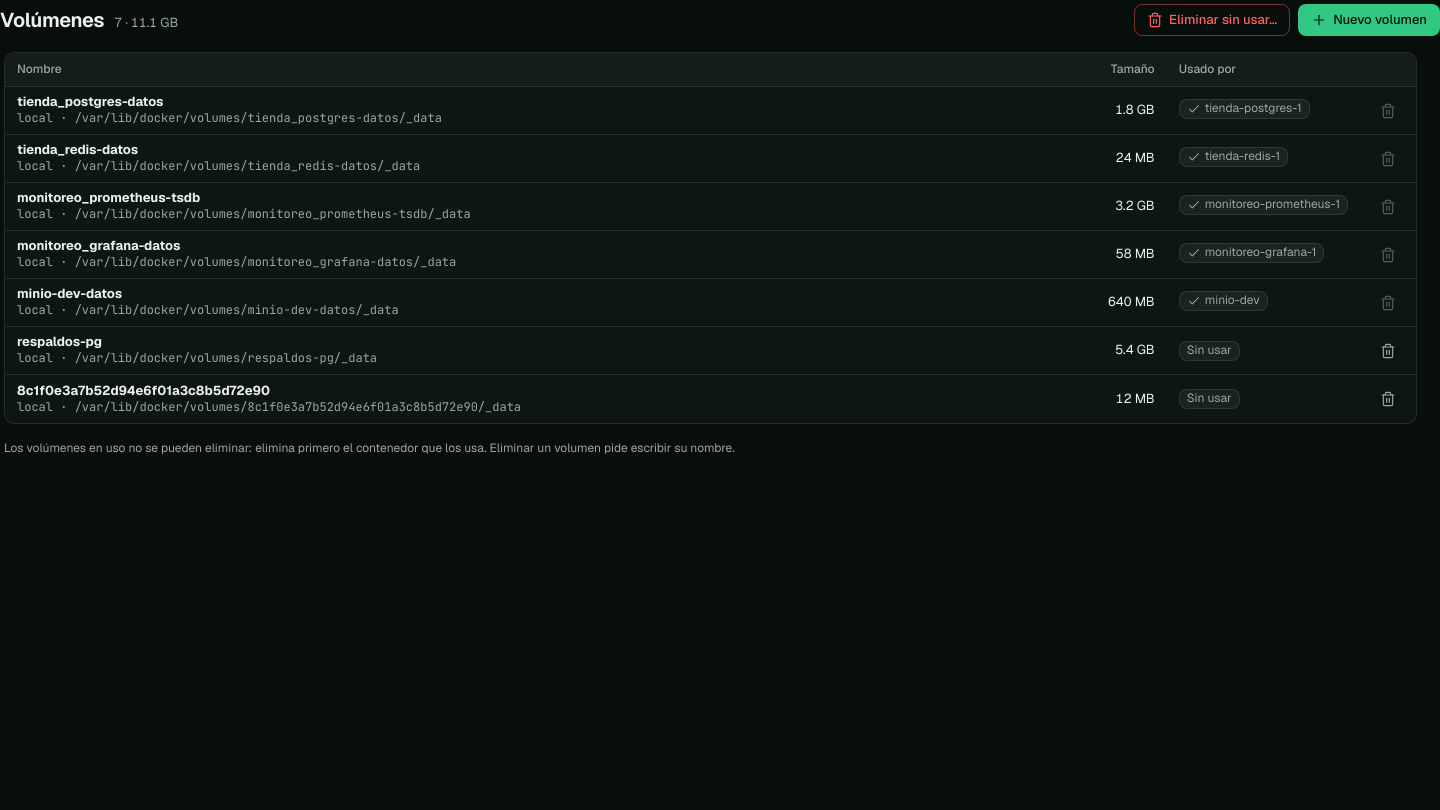
Test case: VolumesPage › volúmenes sin usar: confirmación escrita con ELIMINAR y lista de afectados
Click the button "Eliminar sin usar…": (1212, 20) [1134, 4, 1290, 36]
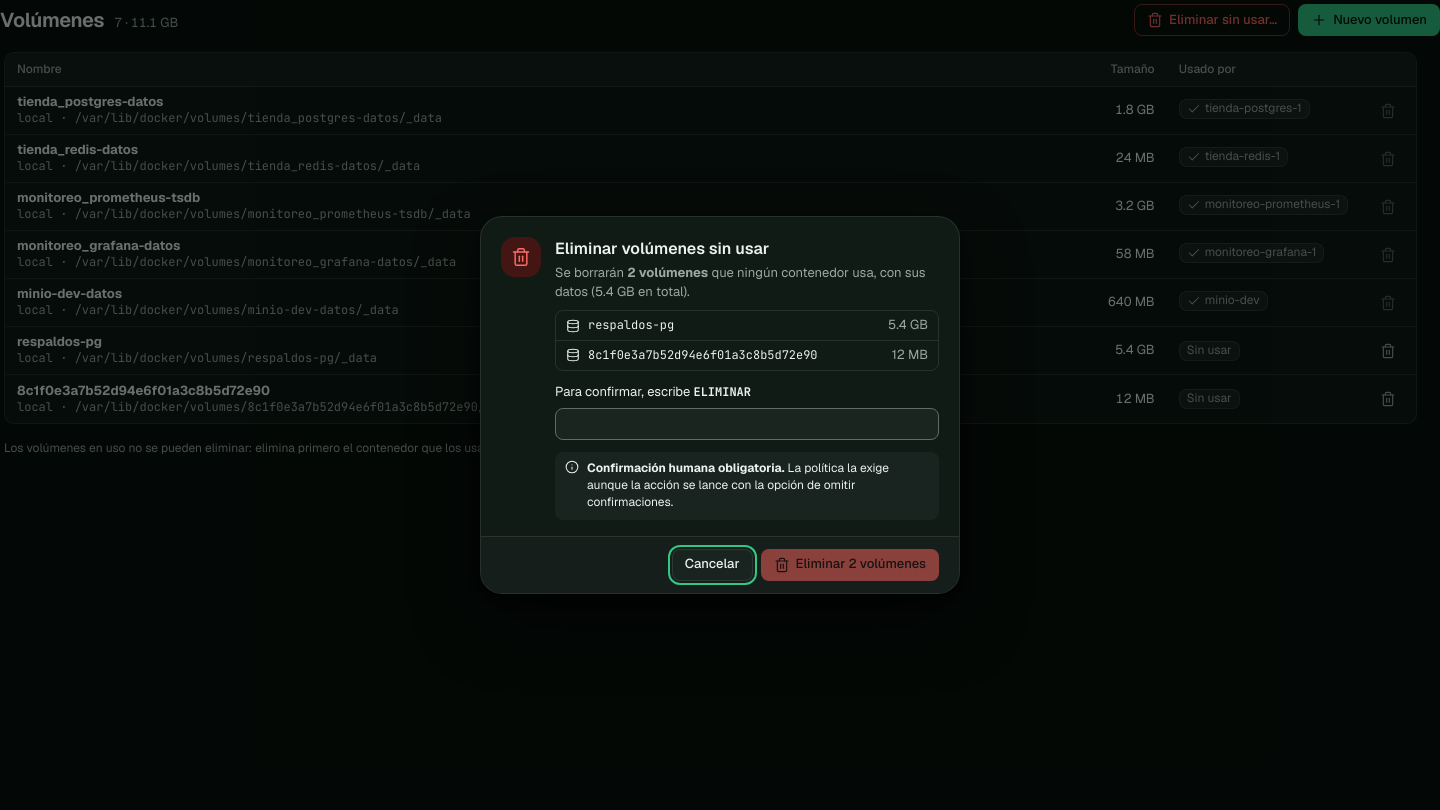
Check: the number of list items is 2, box [556, 311, 938, 341]; [566, 346, 928, 363]
Check: the button "Eliminar 2 volúmenes" is disabled, box [761, 549, 939, 581]
In the field: (747, 424) [555, 408, 939, 440], type "eliminar"
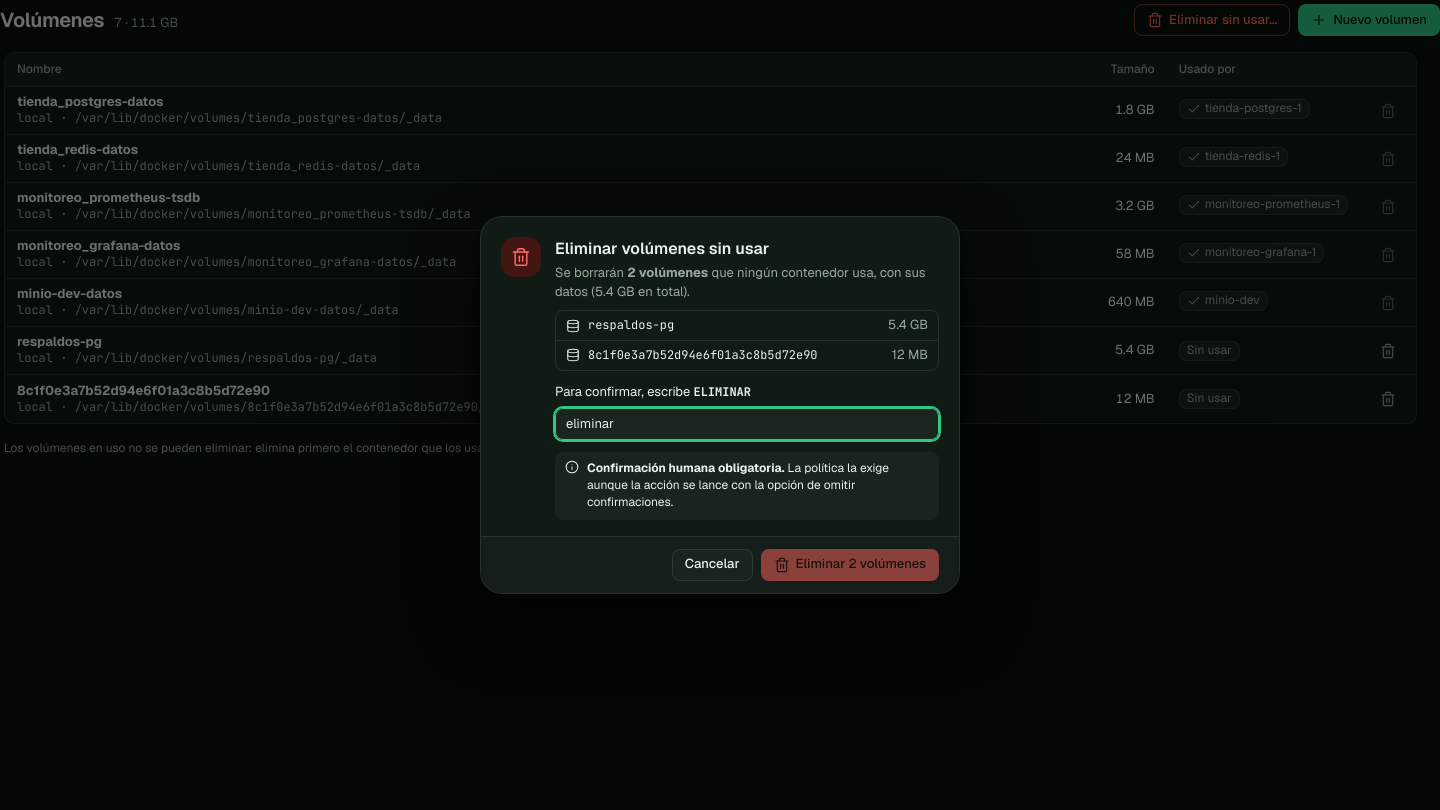
Check: the button "Eliminar 2 volúmenes" is disabled, box [761, 549, 939, 581]
Replace the text in the field with "ELIMINAR": (747, 424) [555, 408, 939, 440]
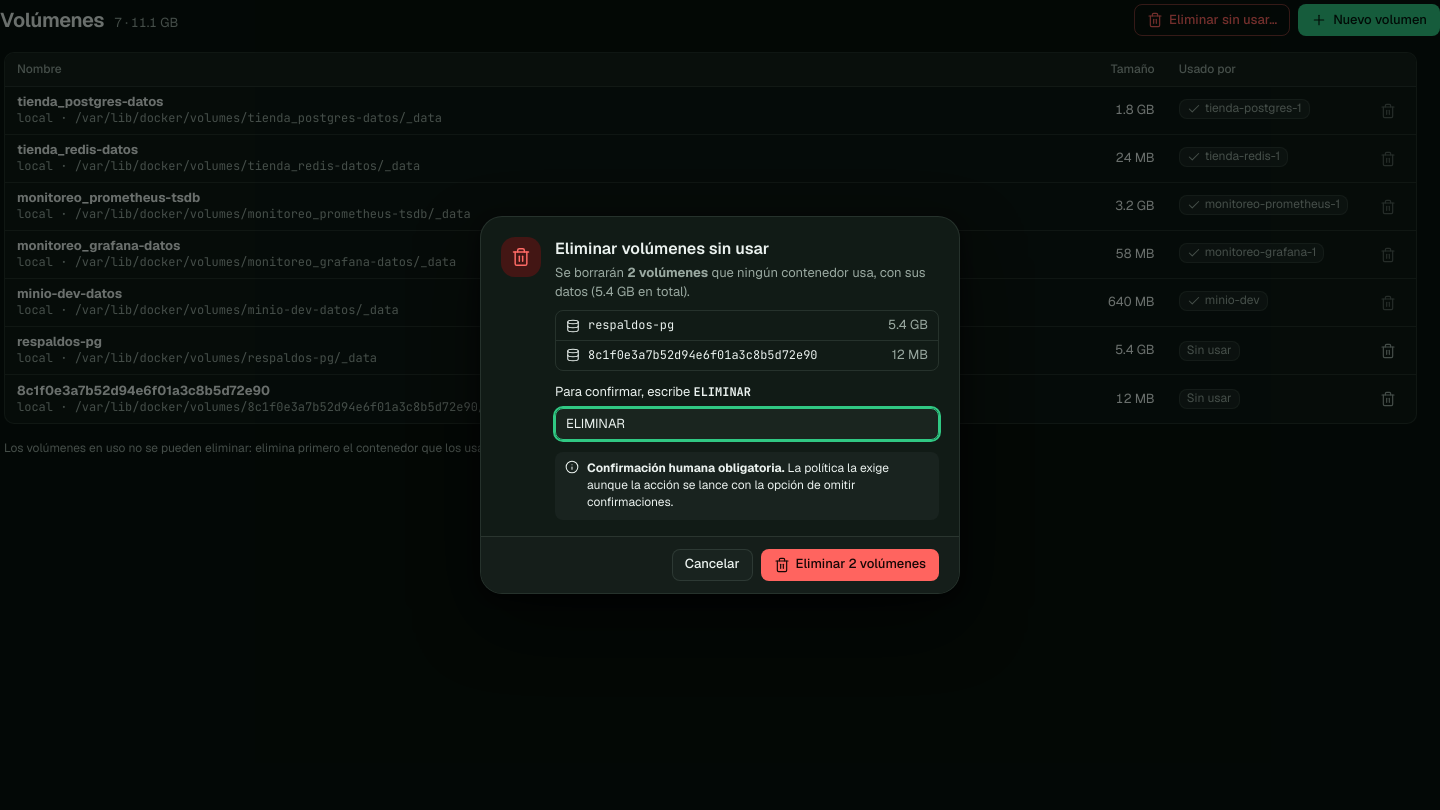
Check: the button "Eliminar 2 volúmenes" is enabled
Click the button "Eliminar 2 volúmenes": (850, 565) [761, 549, 939, 581]
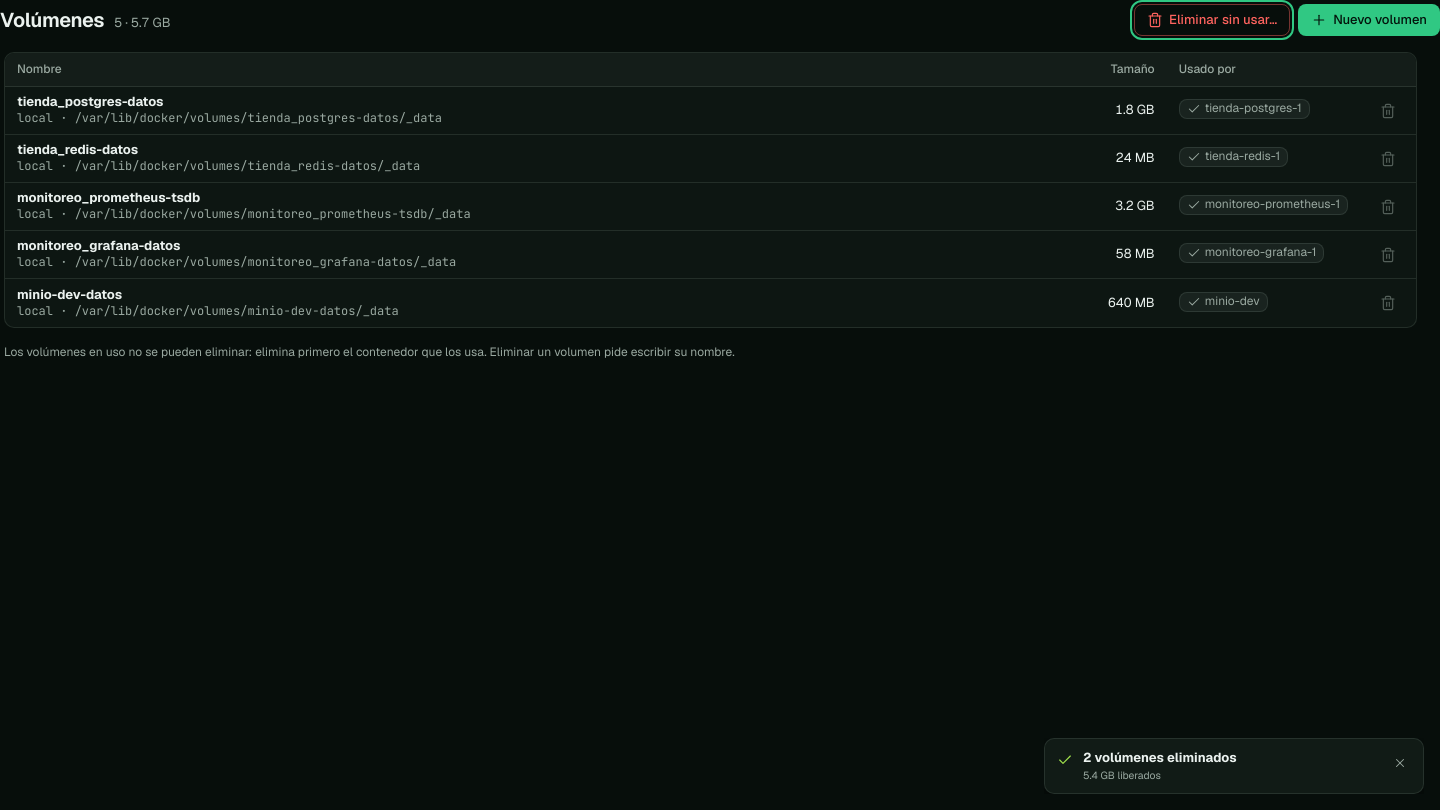
Check: the text "2 volúmenes eliminados" is shown, box [1083, 749, 1237, 766]
